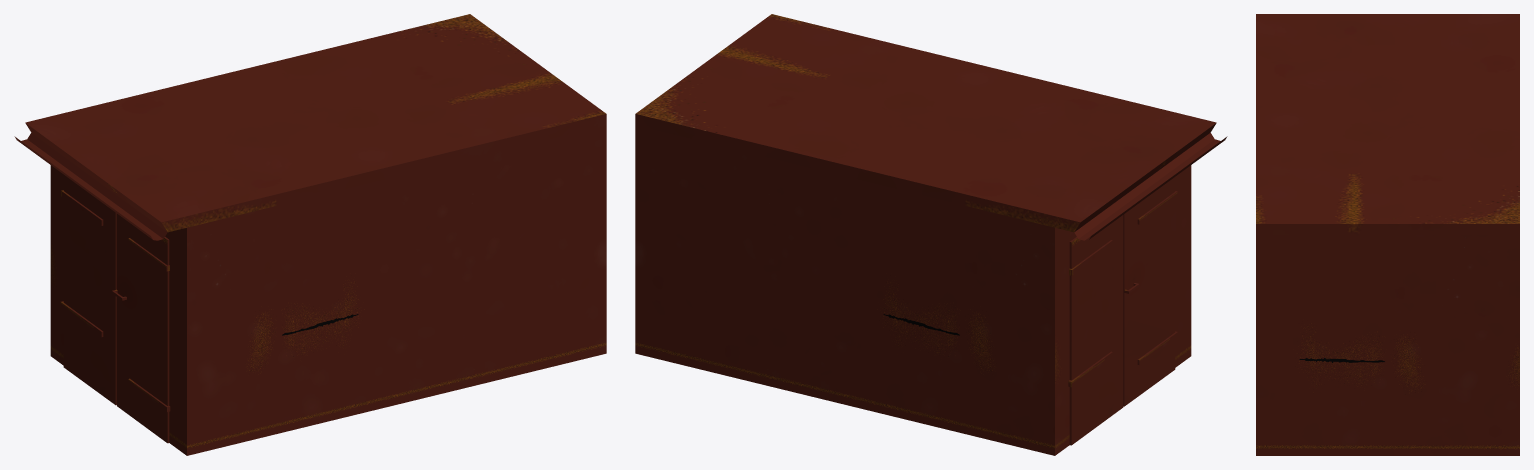
File: Model_Garaz_G.fbx
The picture shows the model from 3 angles, left to right: view 1: azimuth 30°, elevation 25°; view 2: azimuth 150°, elevation 25°; view 3: azimuth 270°, elevation 25°; orthographic projection. The views are drawn at different scales.
Parts seen in each view (by area): view 1: Zielony; view 2: Zielony; view 3: Zielony.
Part boxes in pixels (x1,y1,x2,y2): Zielony: (14, 14, 606, 455); Zielony: (635, 14, 1227, 455); Zielony: (1256, 14, 1519, 455).
Size of the model in its own units: 256 by 248 by 493.
